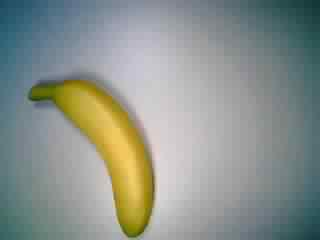banana: (23, 71, 156, 239)
